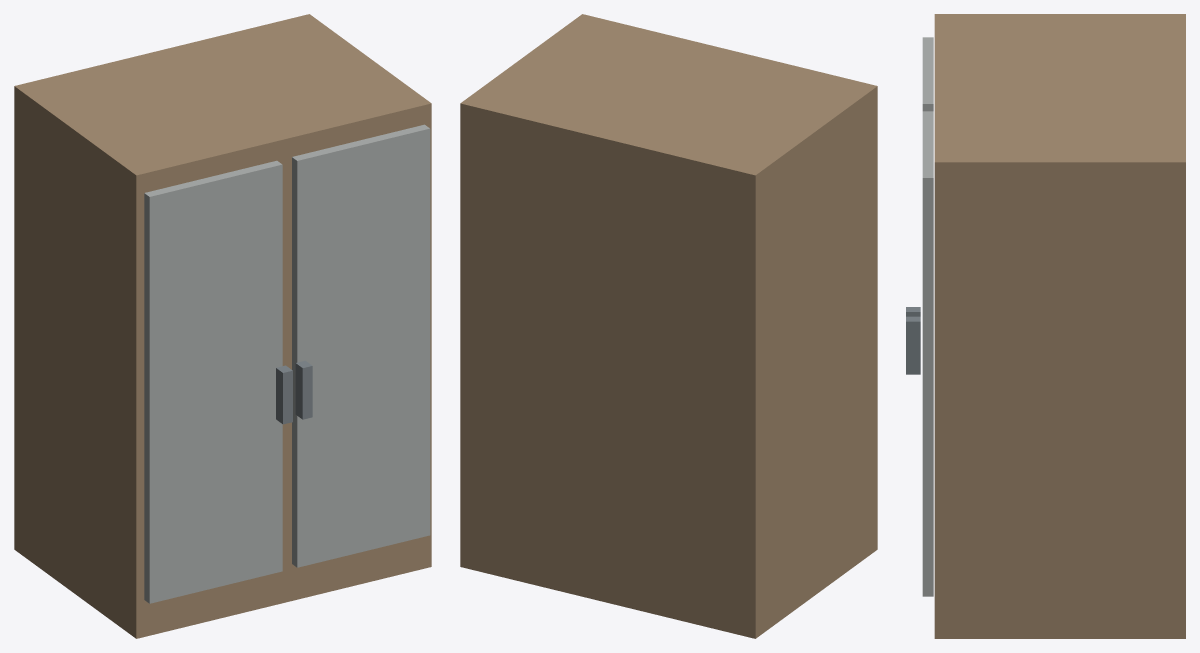
Rendered from COR-009.glb.
3 renders of one model, left to right at view 1: azimuth 30°, elevation 25°; view 2: azimuth 150°, elevation 25°; view 3: azimuth 270°, elevation 25°, orthographic. The views are drawn at different scales.
Visible parts, largest first — view 1: 000_Cabinet_body, 001_Cabinet_door_L, 002_Cabinet_door_R, 006_Door_pull, 005_Door_pull; view 2: 000_Cabinet_body; view 3: 000_Cabinet_body, 002_Cabinet_door_R, 001_Cabinet_door_L, 006_Door_pull.
Boxes of the visible parts, <box> form: 000_Cabinet_body: <box>14,14,431,638</box>; 001_Cabinet_door_L: <box>144,160,282,603</box>; 002_Cabinet_door_R: <box>292,124,430,567</box>; 006_Door_pull: <box>295,360,312,419</box>; 005_Door_pull: <box>276,365,292,424</box>; 000_Cabinet_body: <box>460,14,877,638</box>; 000_Cabinet_body: <box>934,14,1185,638</box>; 002_Cabinet_door_R: <box>922,111,933,596</box>; 001_Cabinet_door_L: <box>922,37,933,111</box>; 006_Door_pull: <box>906,316,920,374</box>.
Bounding box in the file's own units: 0.6 × 0.9 × 0.4785.
